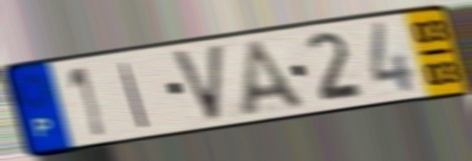1: (67, 63, 108, 139)
2: (308, 29, 367, 107)
4: (367, 19, 419, 97)
A: (239, 36, 312, 120)
I: (116, 60, 151, 130)
V: (168, 41, 227, 125)
